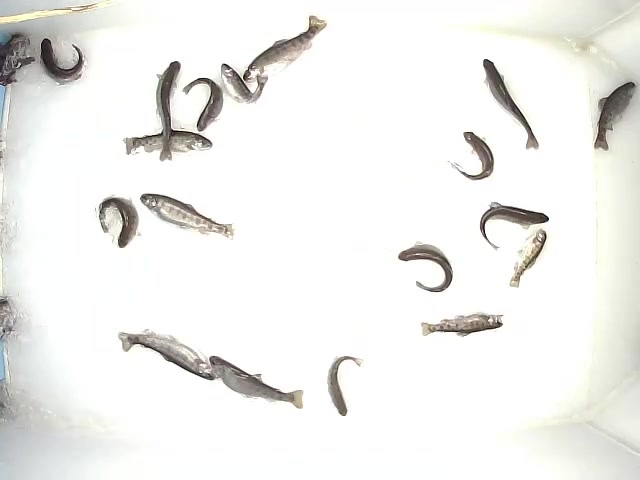fish: (241, 12, 329, 85), (482, 57, 543, 151), (117, 327, 219, 383), (209, 355, 307, 410), (138, 193, 236, 242), (478, 201, 551, 252), (397, 240, 454, 295), (154, 60, 184, 163), (121, 129, 215, 158), (508, 226, 550, 290), (326, 354, 366, 418), (446, 130, 496, 181), (421, 312, 507, 341), (95, 194, 139, 250), (182, 76, 225, 133), (38, 37, 88, 86), (219, 61, 269, 106), (592, 95, 613, 151)
